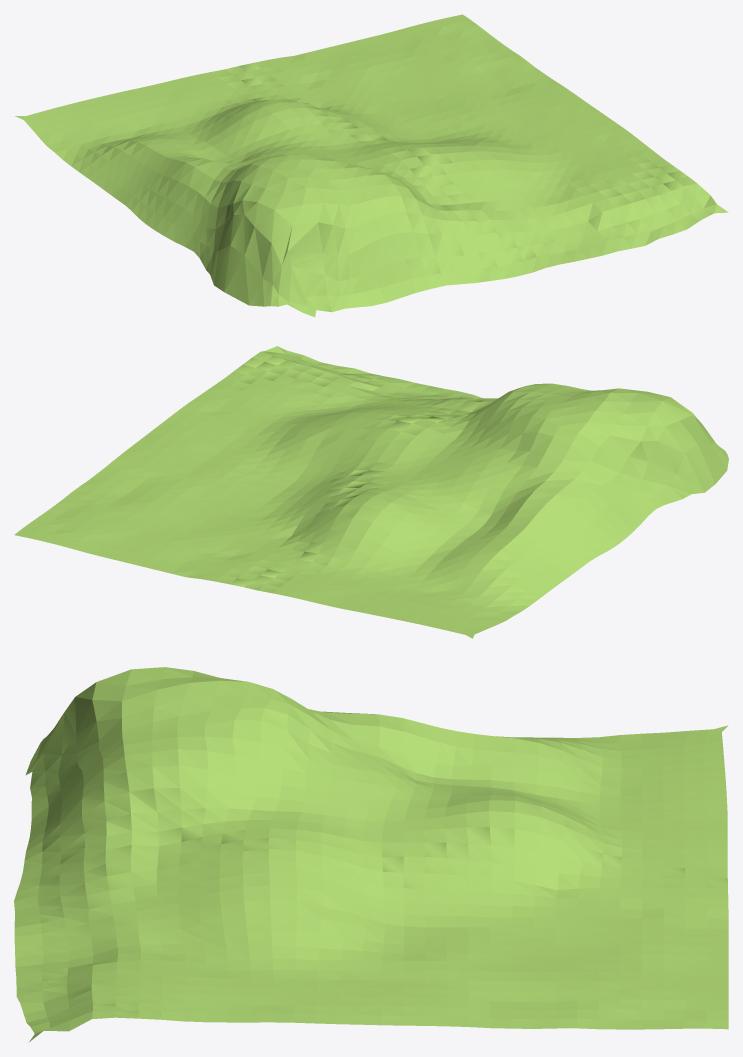
The model's file is lowpolytest22.fbx.
The picture shows the model from 3 angles, top to bottom: view 1: azimuth 30°, elevation 25°; view 2: azimuth 150°, elevation 25°; view 3: azimuth 270°, elevation 25°; orthographic projection. The views are drawn at different scales.
Visible parts, largest first — view 1: LowpolyTerrain; view 2: LowpolyTerrain; view 3: LowpolyTerrain.
Part boxes in pixels (box(x1,y1,x2,y2)): LowpolyTerrain: box(15, 14, 728, 317); LowpolyTerrain: box(14, 346, 728, 638); LowpolyTerrain: box(14, 667, 728, 1042).
Bounding box in the file's own units: 8331 × 1565 × 8250.
